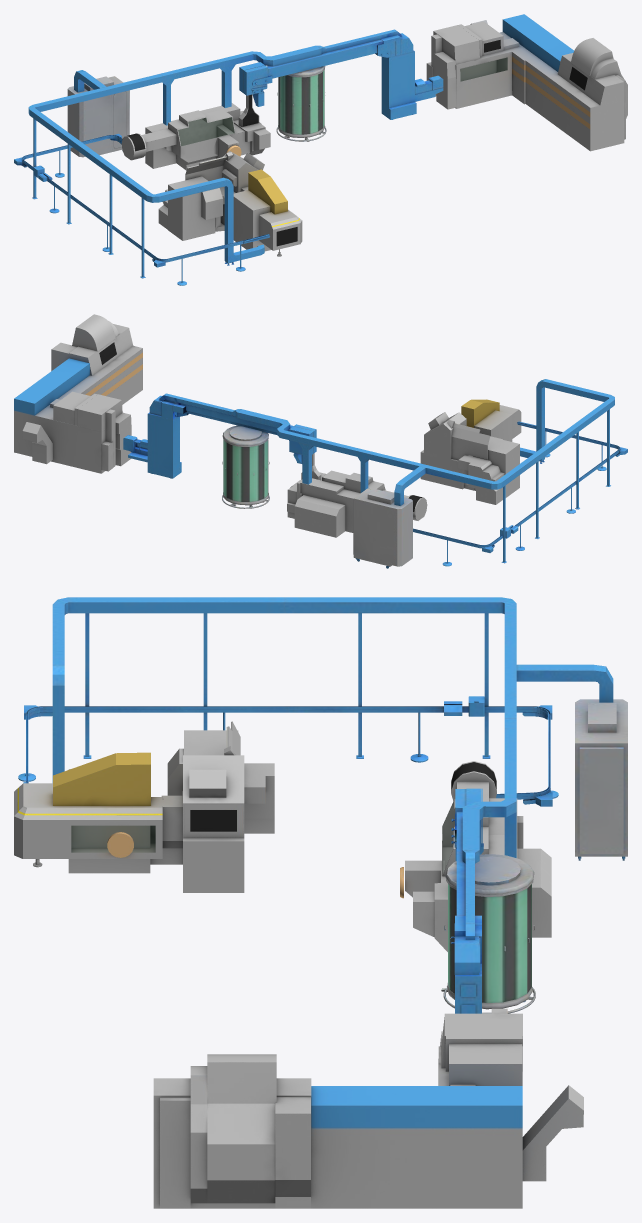
3 renders of one model, top to bottom at view 1: azimuth 30°, elevation 25°; view 2: azimuth 150°, elevation 25°; view 3: azimuth 270°, elevation 25°, orthographic. The views are drawn at different scales.
Parts seen in each view (by area): view 1: QJ_GDX1_GD_01, ZJ118_Alarm_01, CHCTCV_Alarm_01, GDX1_Alarm_01, GDX1_BL, ZB118_BL; view 2: QJ_GDX1_GD_01, ZJ118_Alarm_01, CHCTCV_Alarm_01, GDX1_Alarm_01; view 3: ZJ118_Alarm_01, QJ_GDX1_GD_01, CHCTCV_Alarm_01, GDX1_Alarm_01, CHCTCV_BL.
Boxes of the visible parts, x1,y1,x2,y2 form: QJ_GDX1_GD_01: (14,29,443,285); ZJ118_Alarm_01: (426,14,627,151); CHCTCV_Alarm_01: (158,151,302,256); GDX1_Alarm_01: (121,94,270,170); GDX1_BL: (178,118,233,145); ZB118_BL: (461,58,506,80); QJ_GDX1_GD_01: (123,379,627,568); ZJ118_Alarm_01: (14,314,142,473); CHCTCV_Alarm_01: (420,399,521,504); GDX1_Alarm_01: (287,453,427,537); ZJ118_Alarm_01: (153,1008,583,1208); QJ_GDX1_GD_01: (18,597,627,1013); CHCTCV_Alarm_01: (14,721,274,892); GDX1_Alarm_01: (400,761,551,951); CHCTCV_BL: (72,826,154,851).
Bounding box in the file's own units: 18351 × 2920 × 10142.
5 materials, 4 textured.
